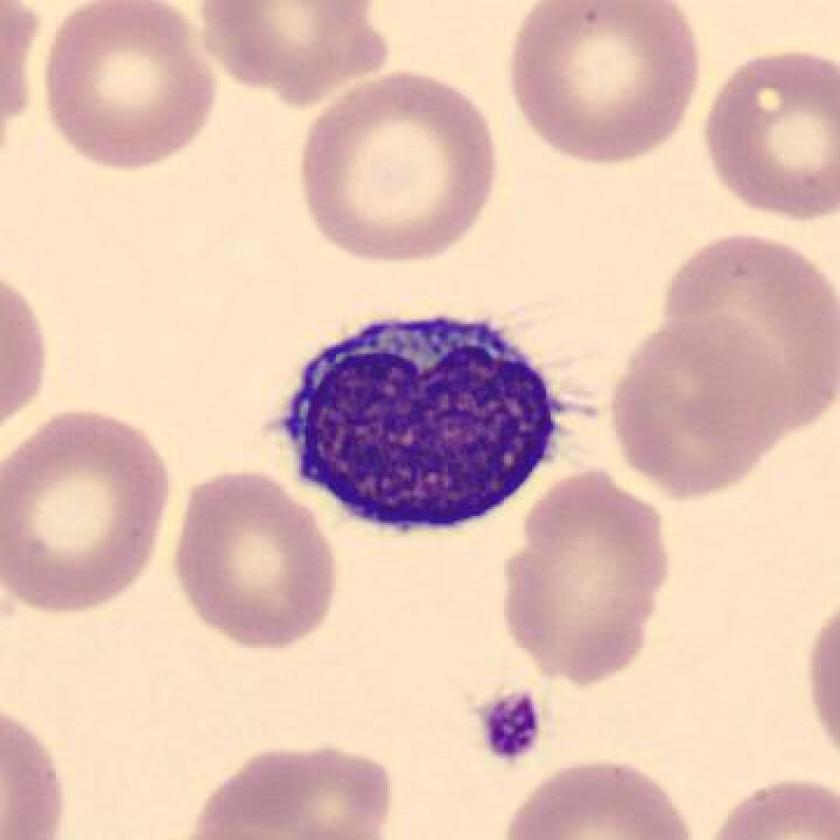lymphocyte: (269, 307, 582, 547)
platelets: (476, 684, 550, 772)
